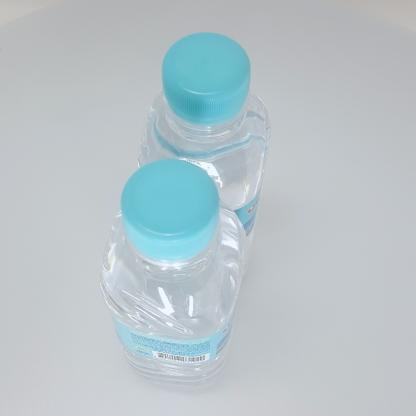-----330ML: (135, 32, 271, 290), (99, 158, 247, 391)
